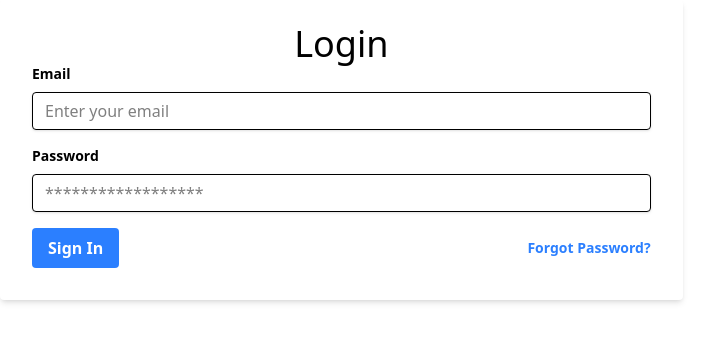
Test: LoginForm › does not submit with roderick, T#$TP&$$678, {}
Step 1. Type "roderick" into the field labelled "Email" → (341, 111), box [32,92,651,130]
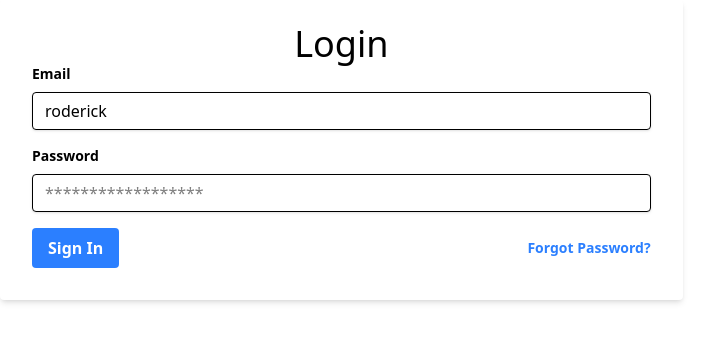
Step 2. Type "T#$TP&$$678" into the password field labelled "Password" → (341, 193), box [32,174,651,212]
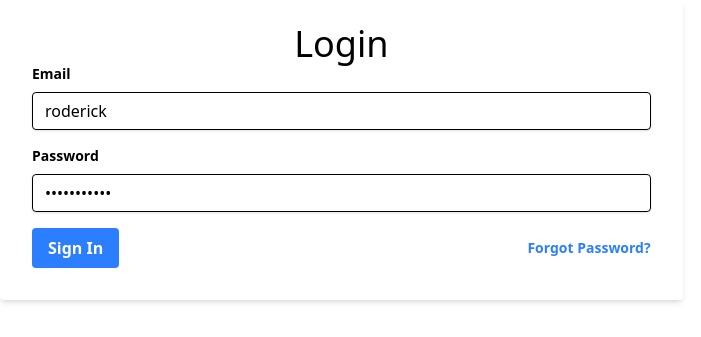
Step 3. Click the button "Sign In" → (76, 248), box [32,228,119,268]
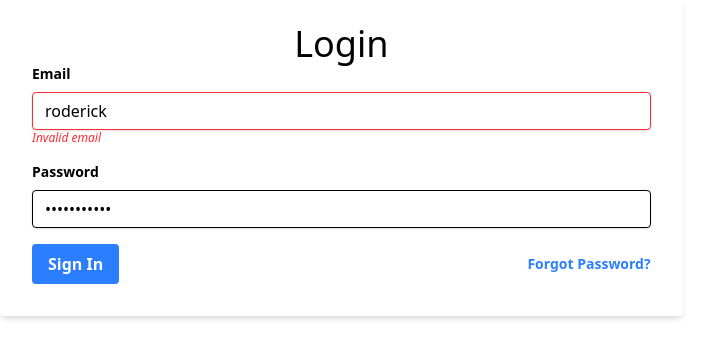
Check: the text "Invalid email" is shown, box [32,129,101,146]
